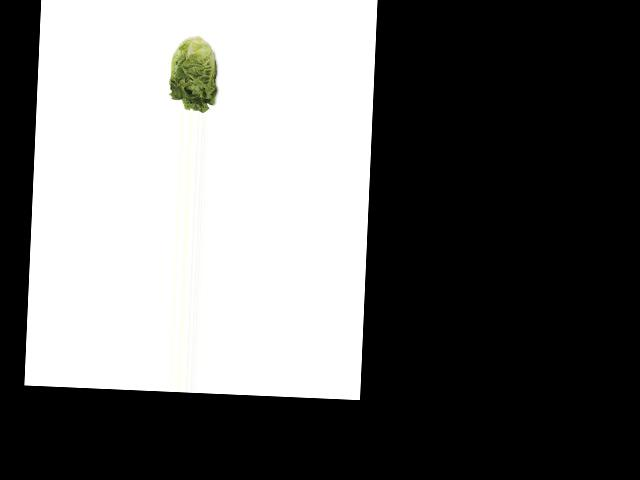lettuce: (163, 34, 222, 111)
